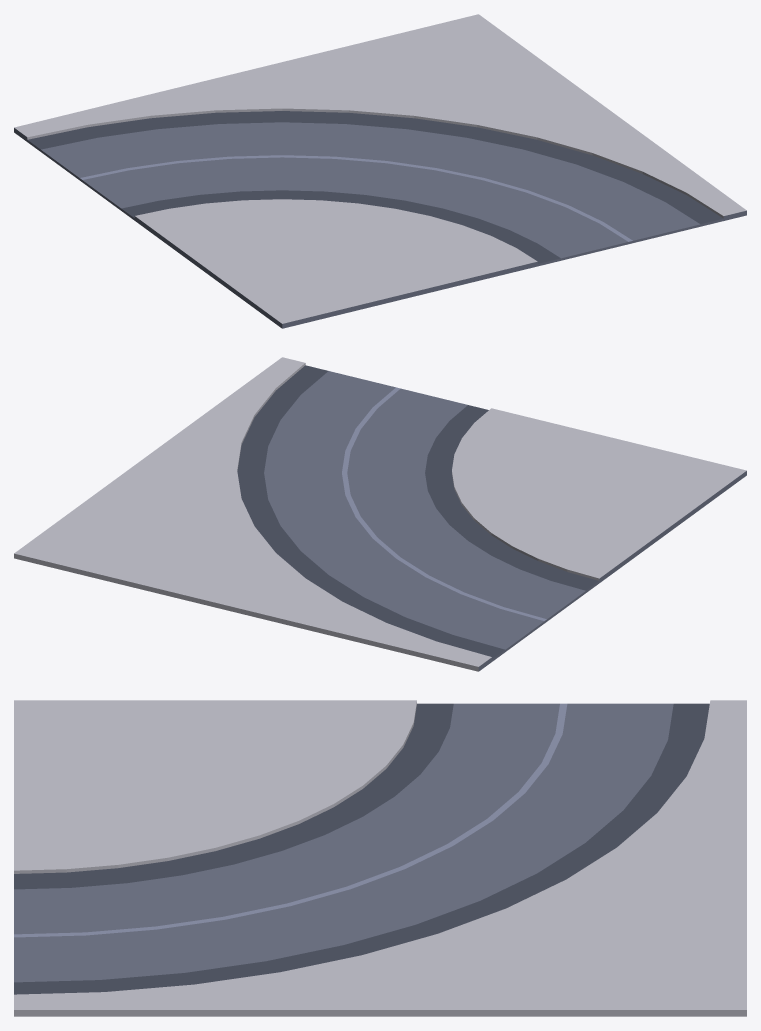
The model's file is road_curvePavement.glb.
3 views of the same model, one above another, from view 1: azimuth 30°, elevation 25°; view 2: azimuth 150°, elevation 25°; view 3: azimuth 270°, elevation 25° (orthographic). The views are drawn at different scales.
Parts seen in each view (by area): view 1: road_curvePavement_31f6b6, road_curvePavement_7ac399, road_curvePavement_5c6384, road_curvePavement_95fec5; view 2: road_curvePavement_31f6b6, road_curvePavement_7ac399, road_curvePavement_5c6384, road_curvePavement_95fec5; view 3: road_curvePavement_31f6b6, road_curvePavement_7ac399, road_curvePavement_5c6384, road_curvePavement_95fec5.
Part boxes in pixels (x1,y1,x2,y2): road_curvePavement_31f6b6: (14, 14, 746, 323); road_curvePavement_7ac399: (14, 122, 746, 328); road_curvePavement_5c6384: (27, 111, 722, 263); road_curvePavement_95fec5: (80, 155, 632, 241); road_curvePavement_31f6b6: (14, 357, 746, 671); road_curvePavement_7ac399: (264, 371, 746, 671); road_curvePavement_5c6384: (237, 365, 598, 659); road_curvePavement_95fec5: (342, 387, 546, 621); road_curvePavement_31f6b6: (14, 700, 746, 1016); road_curvePavement_7ac399: (14, 703, 673, 982); road_curvePavement_5c6384: (14, 703, 709, 994); road_curvePavement_95fec5: (14, 703, 567, 937).
Bounding box in the file's own units: 2 × 0.02 × 2.
